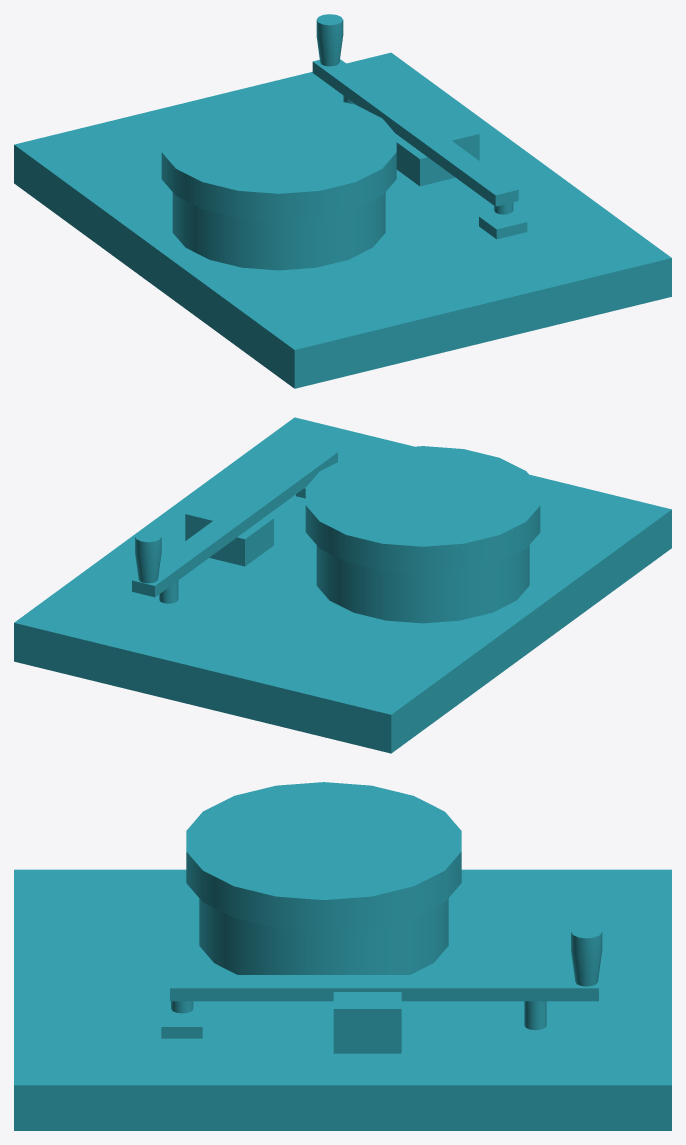
The model's file is SM_Morse.fbx.
3 renders of one model, top to bottom at view 1: azimuth 30°, elevation 25°; view 2: azimuth 150°, elevation 25°; view 3: azimuth 270°, elevation 25°, orthographic. The views are drawn at different scales.
Visible parts, largest first — view 1: Morse; view 2: Morse; view 3: Morse.
Part boxes in pixels (x1,y1,x2,y2): Morse: (14, 14, 671, 388); Morse: (14, 417, 671, 753); Morse: (14, 782, 671, 1130).
Size of the model in its own units: 24.71 by 7.64 by 31.85.
